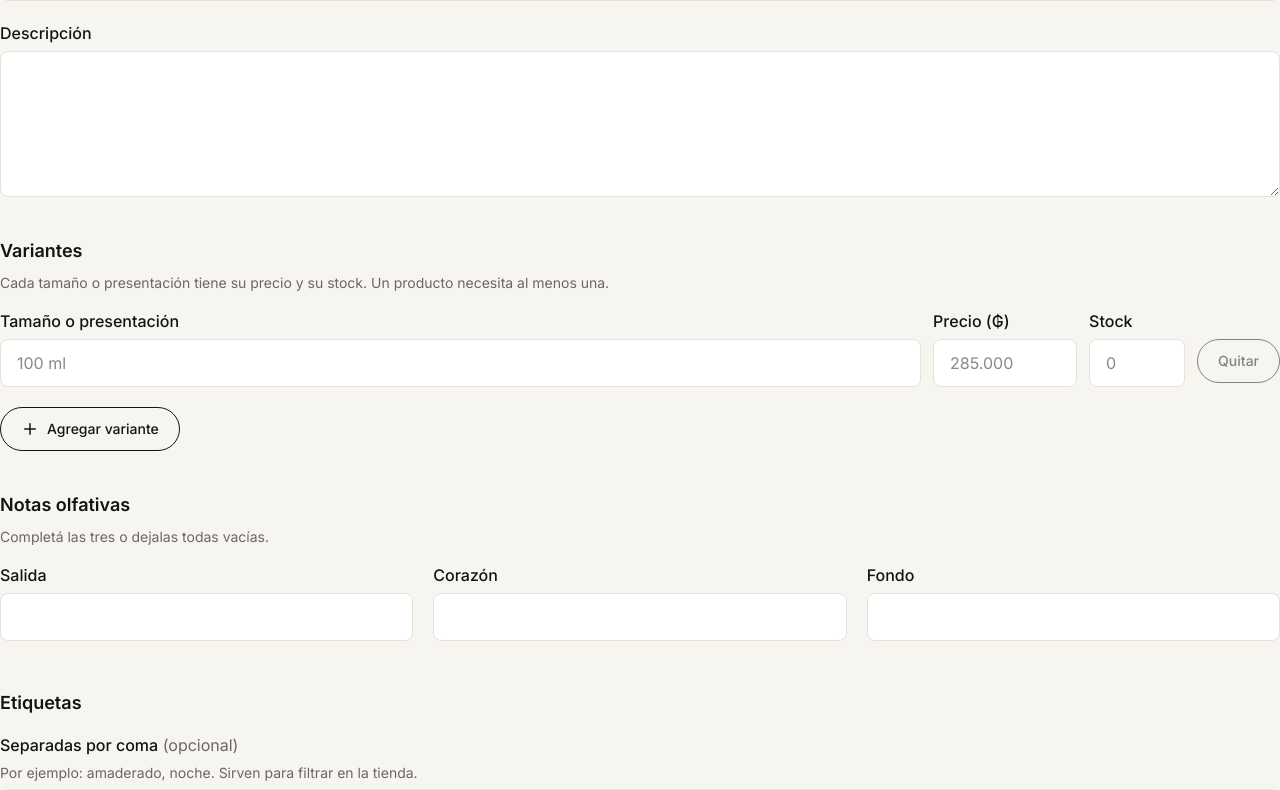
it: ProductForm › agrega y quita variantes, y no deja quitar la última
(page scrolled)
Check: the button with aria-label "Quitar variante 1" is disabled, box [1197,339,1279,383]
Click the button "Agregar variante" at (90, 429), box [0,407,180,451]
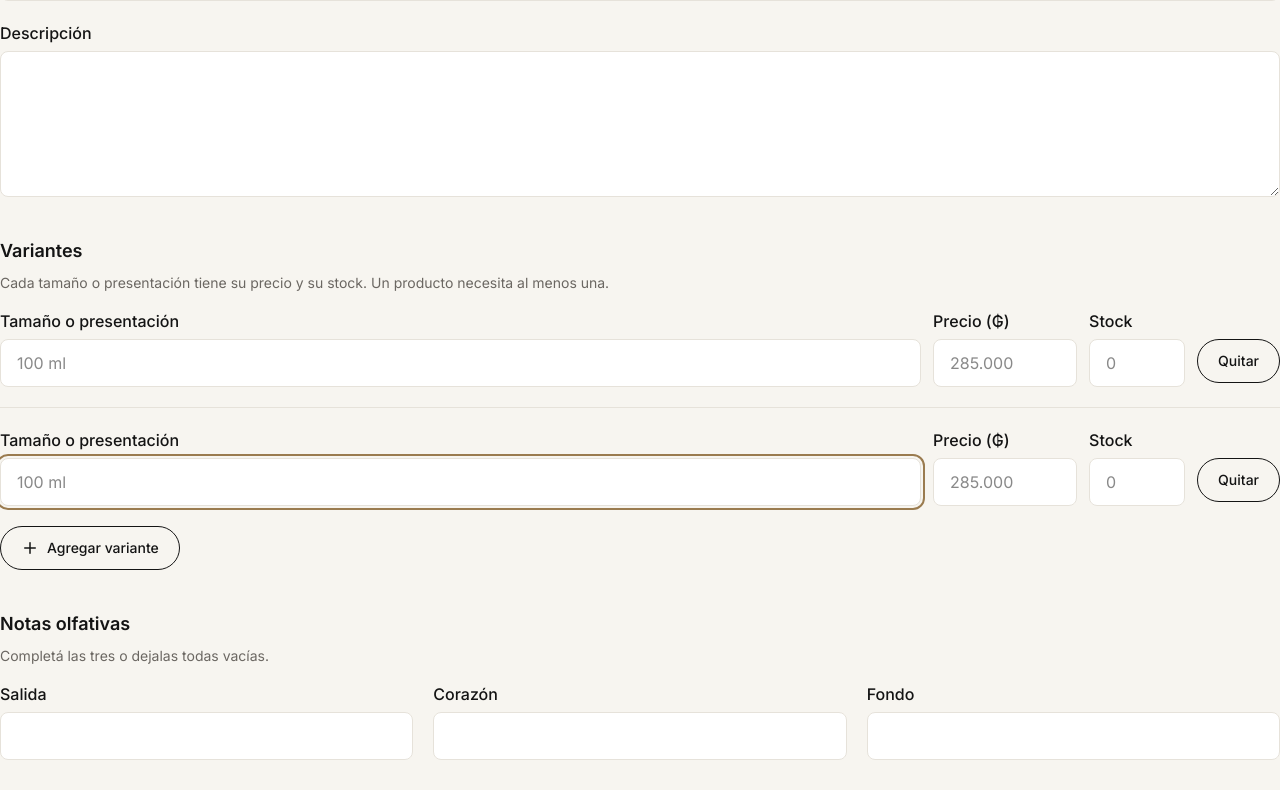
Check: the number of elements "Tamaño o presentación Precio (₲) Stock Quitar" is 2, box [0,309,1279,387]; [0,407,1279,506]
Type "200 ml" into the 2nd field labelled "Tamaño o presentación" at (461, 482), box [0,458,921,506]
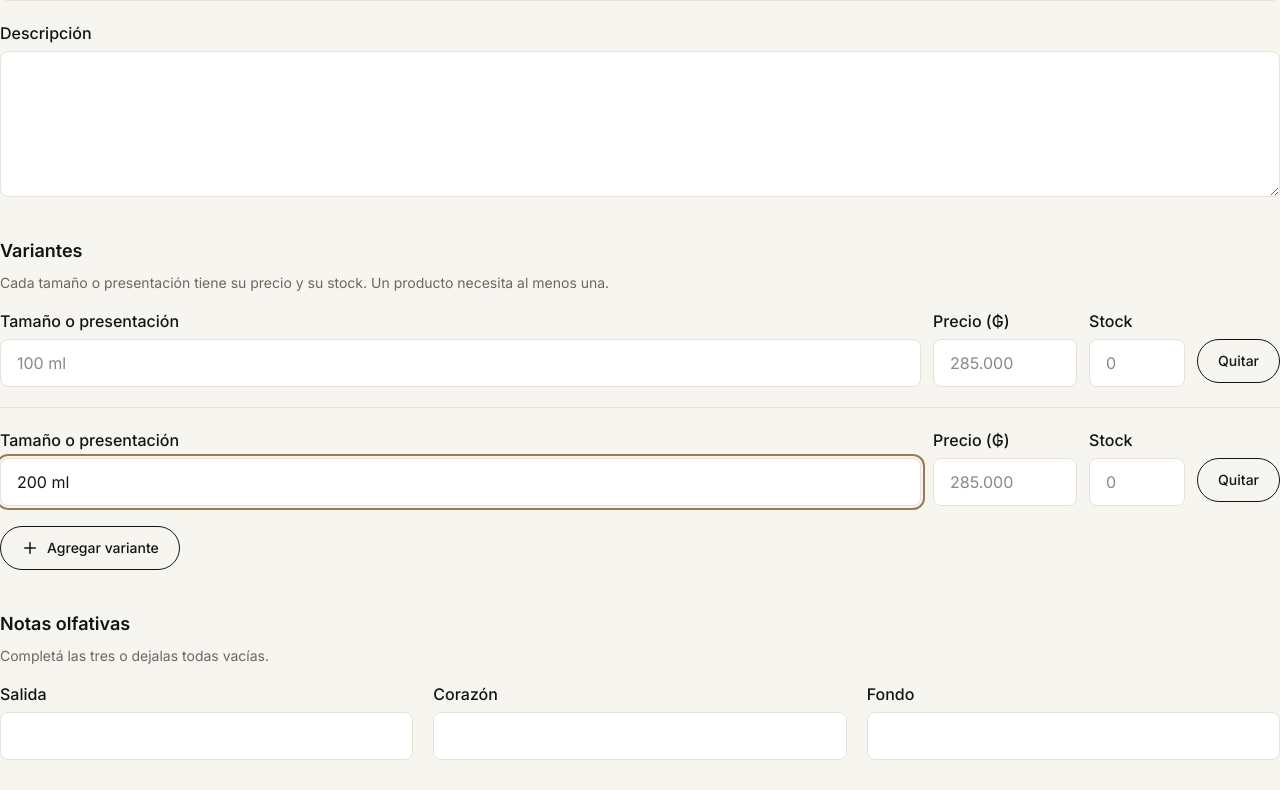
Click the button with aria-label "Quitar variante 1" at (1239, 361), box [1197,339,1279,383]
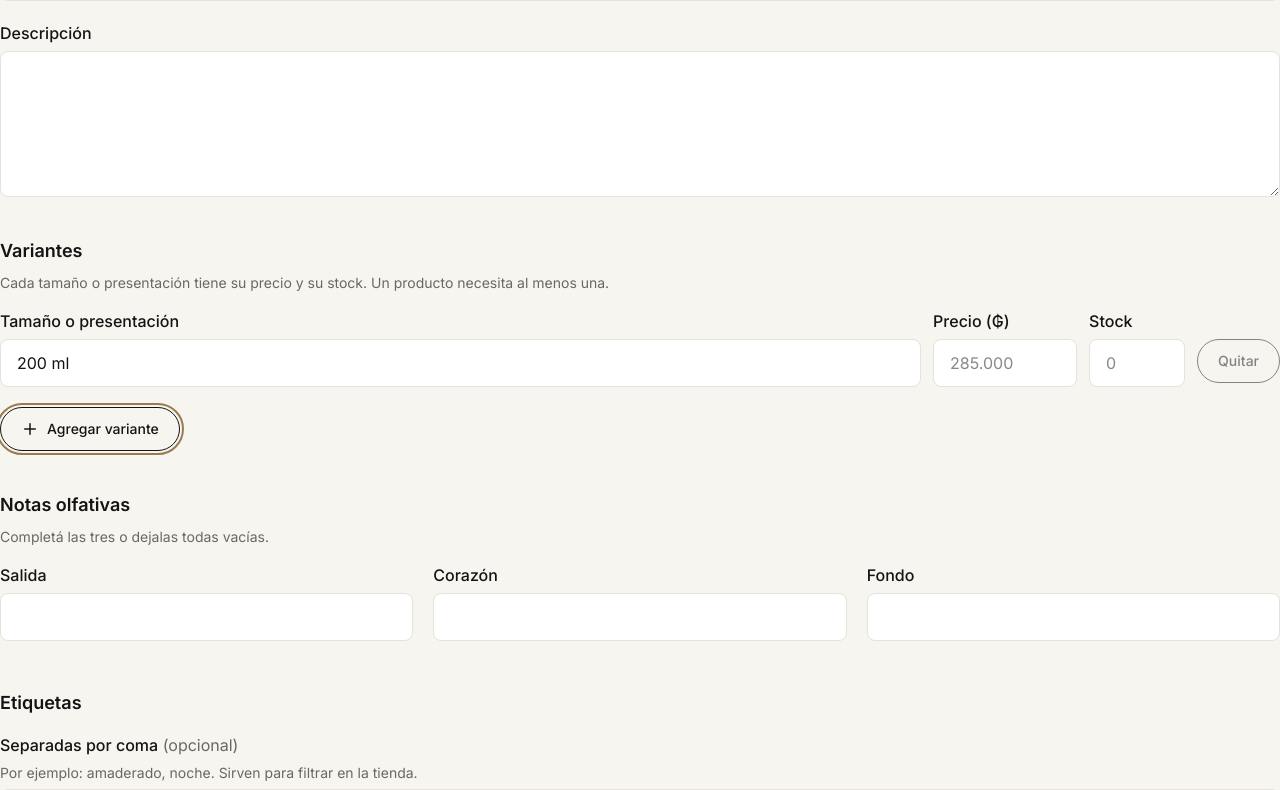
Check: the number of elements "Tamaño o presentación Precio (₲) Stock Quitar" is 1, box [0,309,1279,387]
